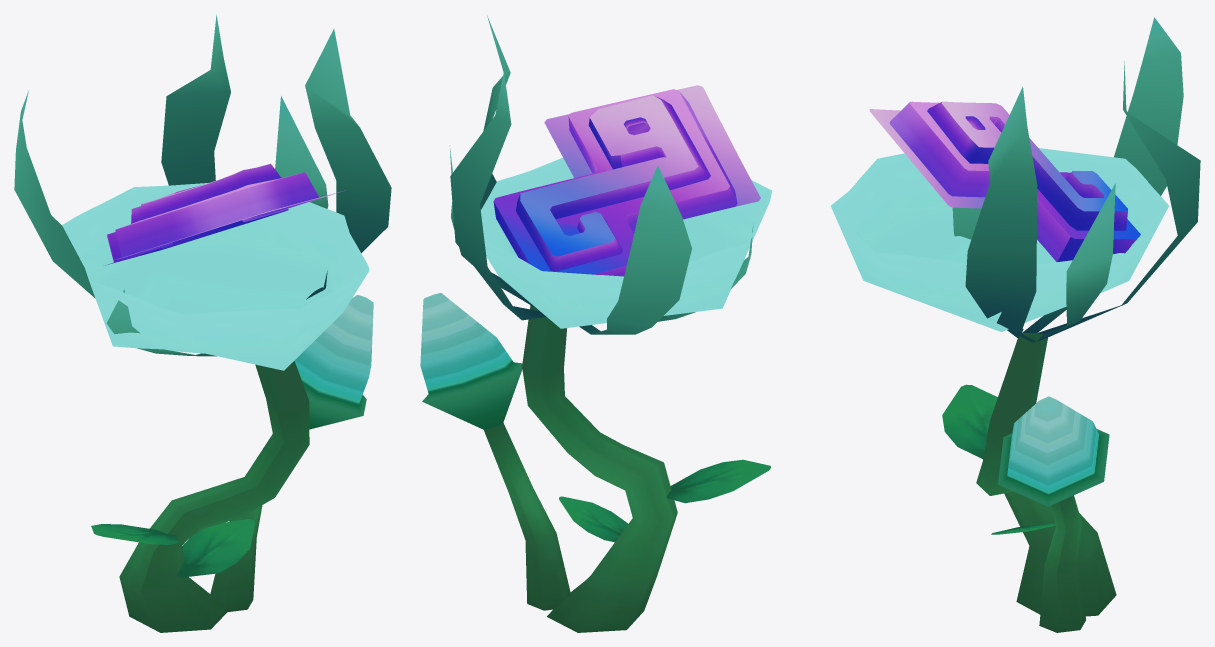
3 renders of one model, left to right at view 1: azimuth 30°, elevation 25°; view 2: azimuth 150°, elevation 25°; view 3: azimuth 270°, elevation 25°, orthographic. The views are drawn at different scales.
Visible parts, largest first — view 1: obj_hc_tree_rotation, obj_hc_tree_alpha; view 2: obj_hc_tree_rotation, obj_hc_tree_alpha; view 3: obj_hc_tree_rotation, obj_hc_tree_alpha.
Boxes of the visible parts, <box> form: obj_hc_tree_rotation: <box>14,14,391,632</box>; obj_hc_tree_alpha: <box>62,183,369,370</box>; obj_hc_tree_rotation: <box>420,15,770,632</box>; obj_hc_tree_alpha: <box>480,157,772,328</box>; obj_hc_tree_rotation: <box>869,17,1200,632</box>; obj_hc_tree_alpha: <box>831,148,1168,331</box>.
Bounding box in the file's own units: 0.7523 × 1.29 × 0.7715.
